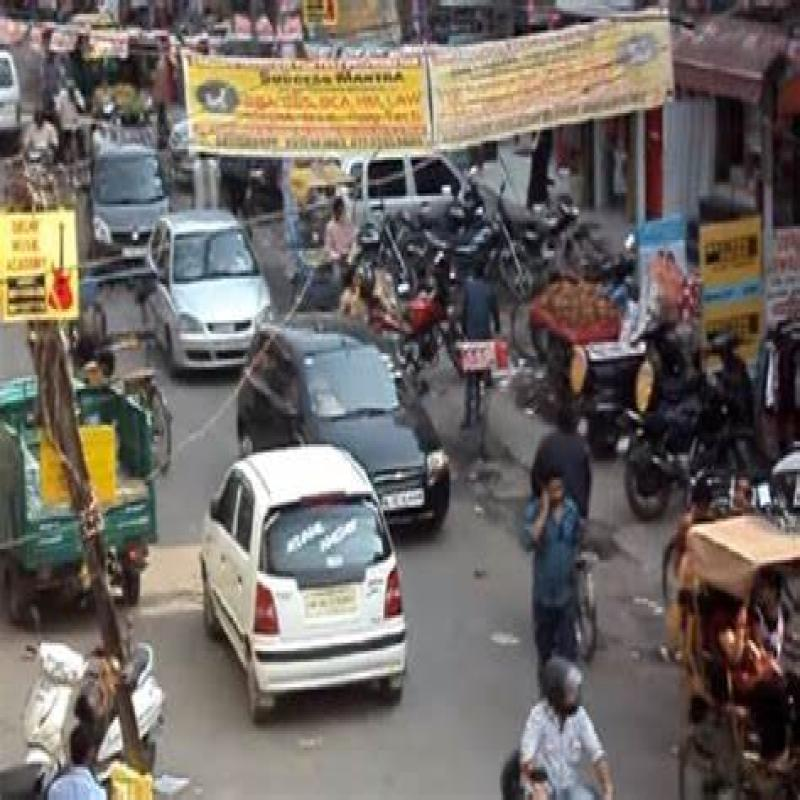bike: (30, 631, 193, 750)
car: (199, 458, 413, 711), (240, 310, 448, 509), (154, 237, 268, 375), (81, 145, 177, 277)
